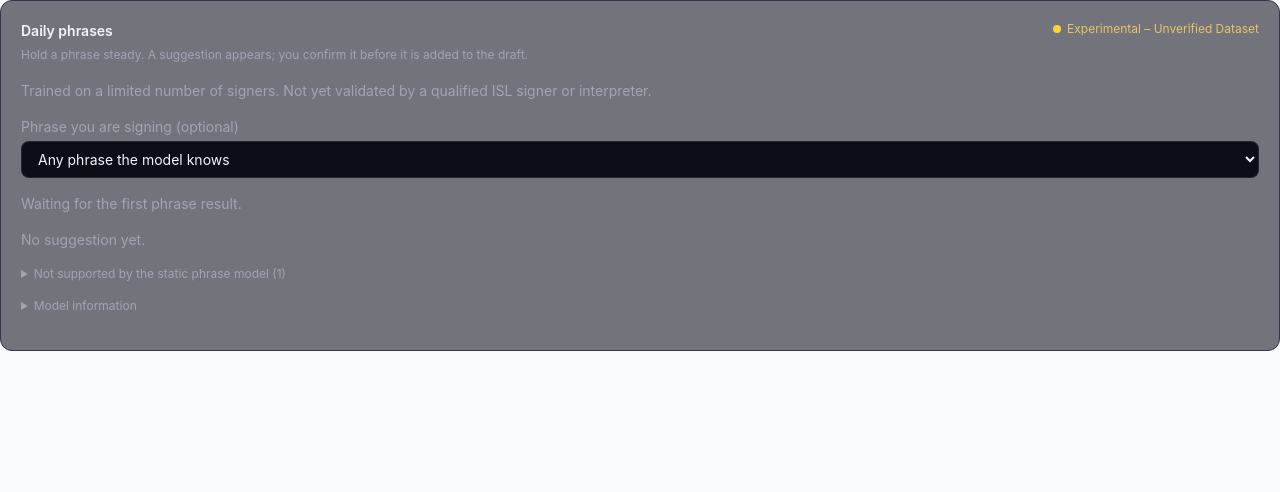
it: PhrasePanel › shows model information with verification, the research-use note and the separate approval note
This screenshot has width=1280, height=492.
Click the heading "Model information".
click(85, 305)  # box top-left (34, 298), bottom-right (137, 312)
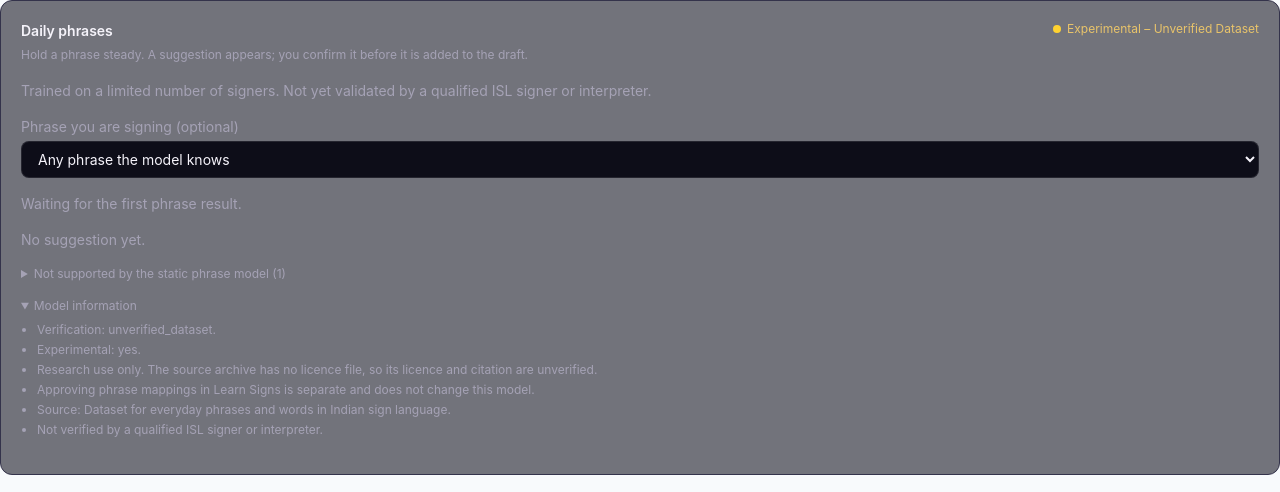
Check: the list item "Verification: unverified_dataset." is shown, box top-left (37, 322), bottom-right (216, 336)
Check: the list item "Research use only" is shown, box top-left (37, 362), bottom-right (597, 376)
Check: the list item "Approving phrase mappings in Learn Signs is separate" is shown, box top-left (37, 382), bottom-right (535, 396)
